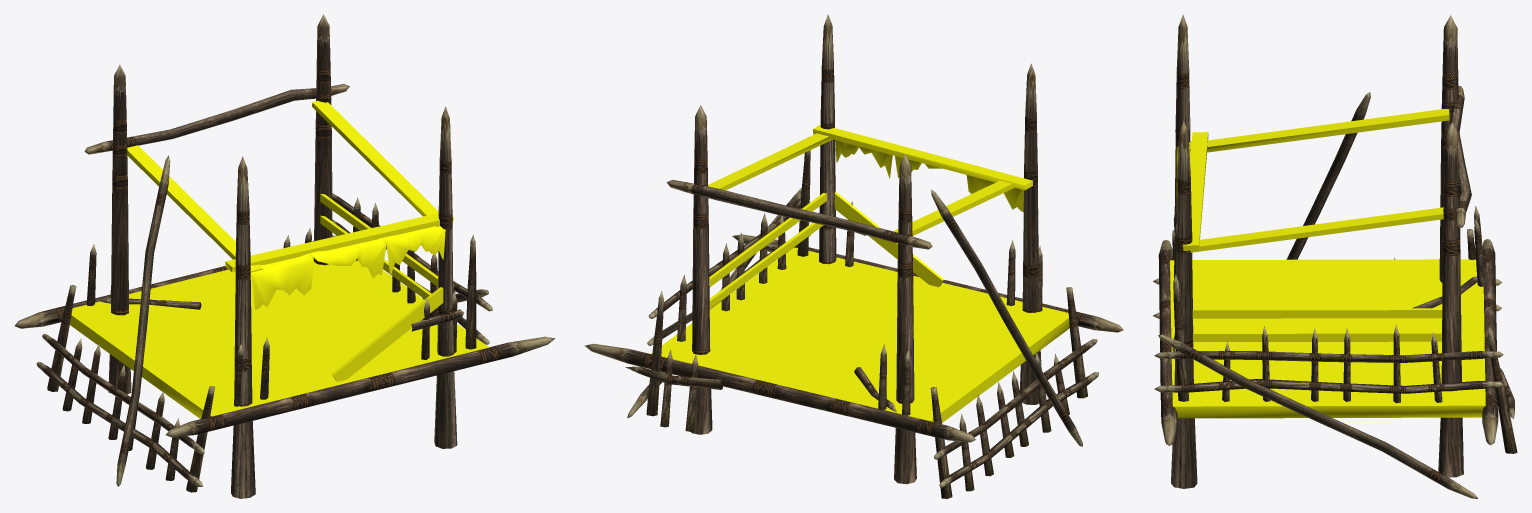
File: gaint_build_a_03_d.glb
The picture shows the model from 3 angles, left to right: view 1: azimuth 30°, elevation 25°; view 2: azimuth 150°, elevation 25°; view 3: azimuth 270°, elevation 25°; orthographic projection. The views are drawn at different scales.
Visible parts, largest first — view 1: Object03, Object, Object07; view 2: Object03, Object, Object07; view 3: Object03, Object, Object07.
Part boxes in pixels (bbox=[...]): Object03: bbox=[14, 14, 554, 498]; Object: bbox=[70, 254, 489, 418]; Object07: bbox=[127, 100, 453, 381]; Object03: bbox=[584, 14, 1123, 498]; Object: bbox=[651, 247, 1069, 422]; Object07: bbox=[708, 124, 1032, 308]; Object03: bbox=[1153, 14, 1517, 498]; Object: bbox=[1170, 259, 1485, 418]; Object07: bbox=[1176, 109, 1449, 341].
Size of the model in its own units: 13.42 by 10.96 by 9.99.
3 materials, 3 textured.
